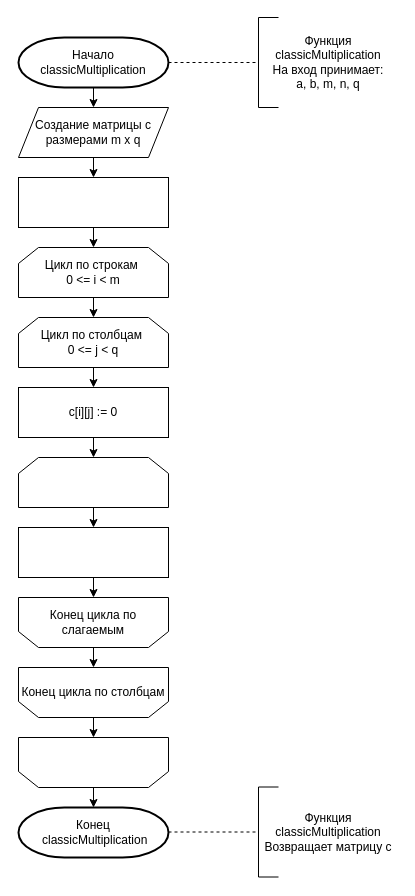
This 415x896 diagram has some shape labels left out. The box of each missing label's shape, as (x1, y1, x2, y2) in pixels:
c[i][j] += a[i][k] * b[k][j]: (18, 526, 168, 578)
i := 0, j := 0, k := 0: (18, 176, 168, 228)
Конец цикла по строкам: (18, 736, 168, 788)
Цикл по слагаемому 0 <= k < n: (18, 456, 168, 508)
